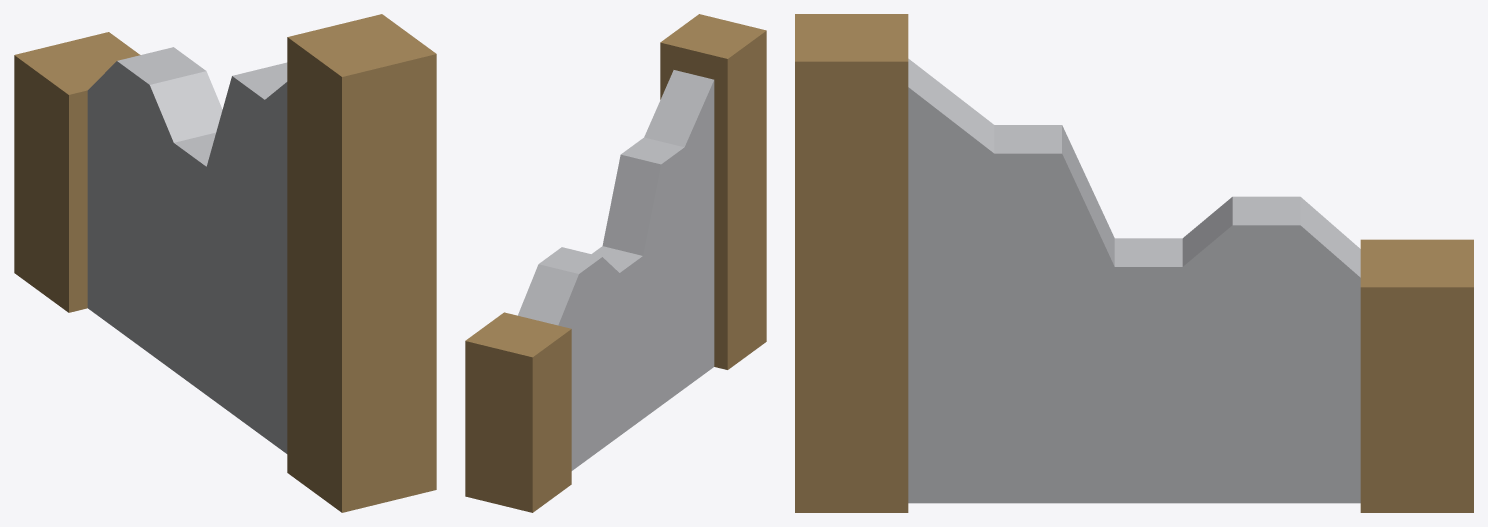
Rendered from Wood_Broken_Wall_01.obj.
3 renders of one model, left to right at view 1: azimuth 30°, elevation 25°; view 2: azimuth 150°, elevation 25°; view 3: azimuth 270°, elevation 25°, orthographic. The views are drawn at different scales.
Parts seen in each view (by area): view 1: Mesh1_Wood_Broken_Wall_Model; view 2: Mesh1_Wood_Broken_Wall_Model; view 3: Mesh1_Wood_Broken_Wall_Model.
Part boxes in pixels (x1,y1,x2,y2): Mesh1_Wood_Broken_Wall_Model: (14, 14, 436, 512); Mesh1_Wood_Broken_Wall_Model: (465, 14, 766, 512); Mesh1_Wood_Broken_Wall_Model: (795, 14, 1473, 512).
Size of the model in its own units: 0.5 by 2.2 by 3.
